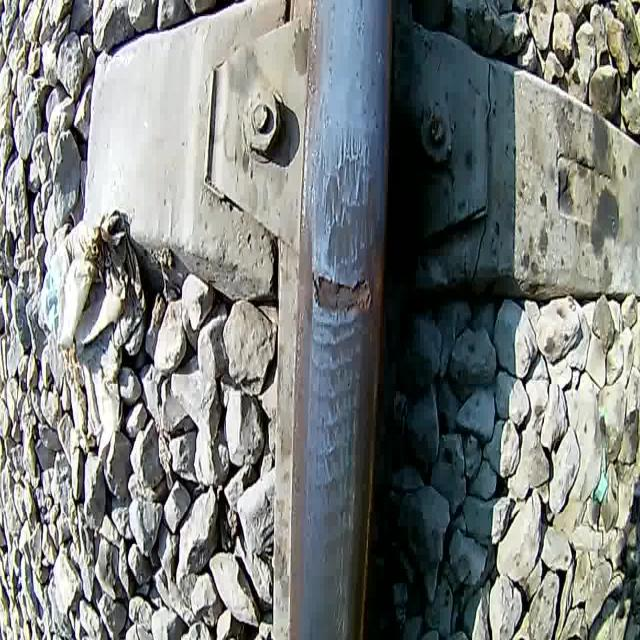Spallings: (306, 262, 378, 325)
Squats: (295, 313, 373, 600), (320, 120, 384, 279)
